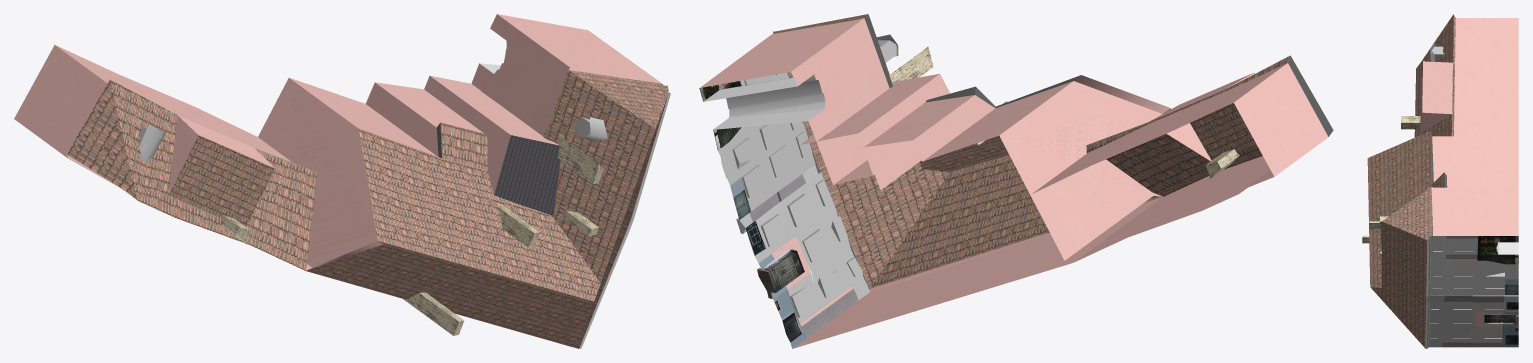
The model's file is Pikk_41_1-origo.obj.
The picture shows the model from 3 angles, left to right: view 1: azimuth 30°, elevation 25°; view 2: azimuth 150°, elevation 25°; view 3: azimuth 270°, elevation 25°; orthographic projection. The views are drawn at different scales.
Visible parts, largest first — view 1: polySurface49; view 2: polySurface49; view 3: polySurface49.
Boxes of the visible parts, box(x1,y1,x2,y2) form: polySurface49: box(14, 14, 670, 348); polySurface49: box(699, 14, 1333, 348); polySurface49: box(1362, 14, 1518, 348).
Size of the model in its own units: 47.31 by 28 by 19.03.
